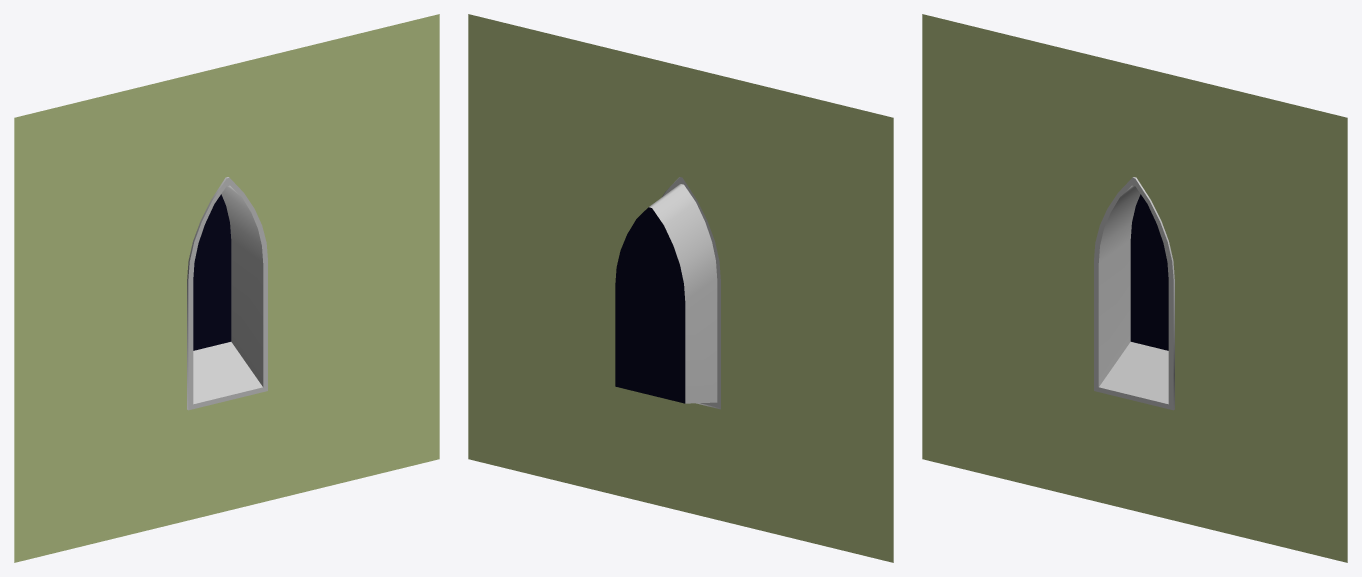
File: Historic_Church_Window_4.0x4.0.obj
3 views of the same model, side by side, from view 1: azimuth 30°, elevation 25°; view 2: azimuth 150°, elevation 25°; view 3: azimuth 330°, elevation 25° (orthographic).
Visible parts, largest first — view 1: Historic_Church_Window_4.0x4.0; view 2: Historic_Church_Window_4.0x4.0; view 3: Historic_Church_Window_4.0x4.0.
Boxes of the visible parts, x1=… form: Historic_Church_Window_4.0x4.0: x1=14, y1=14, x2=439, y2=562; Historic_Church_Window_4.0x4.0: x1=468, y1=14, x2=893, y2=562; Historic_Church_Window_4.0x4.0: x1=922, y1=14, x2=1347, y2=562.
Bounding box in the file's own units: 4 × 4 × 0.52.
